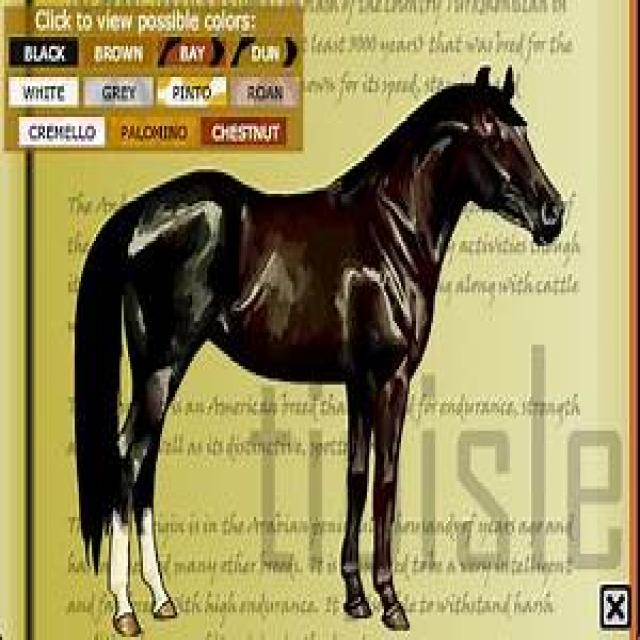animal: (72, 61, 566, 634)
